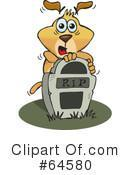dog: (23, 2, 101, 103)
